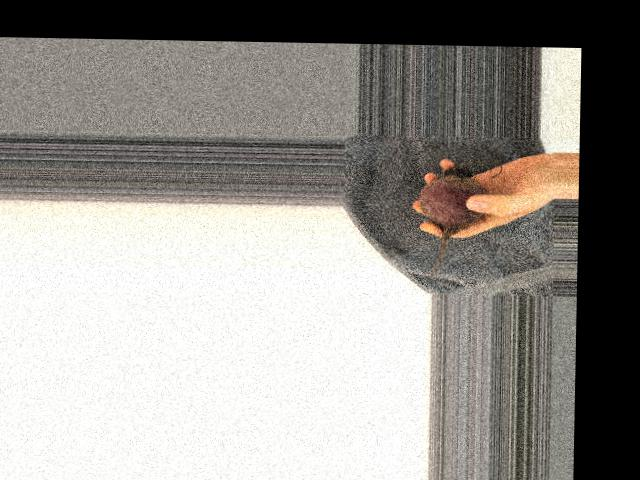beet: (416, 168, 488, 280)
